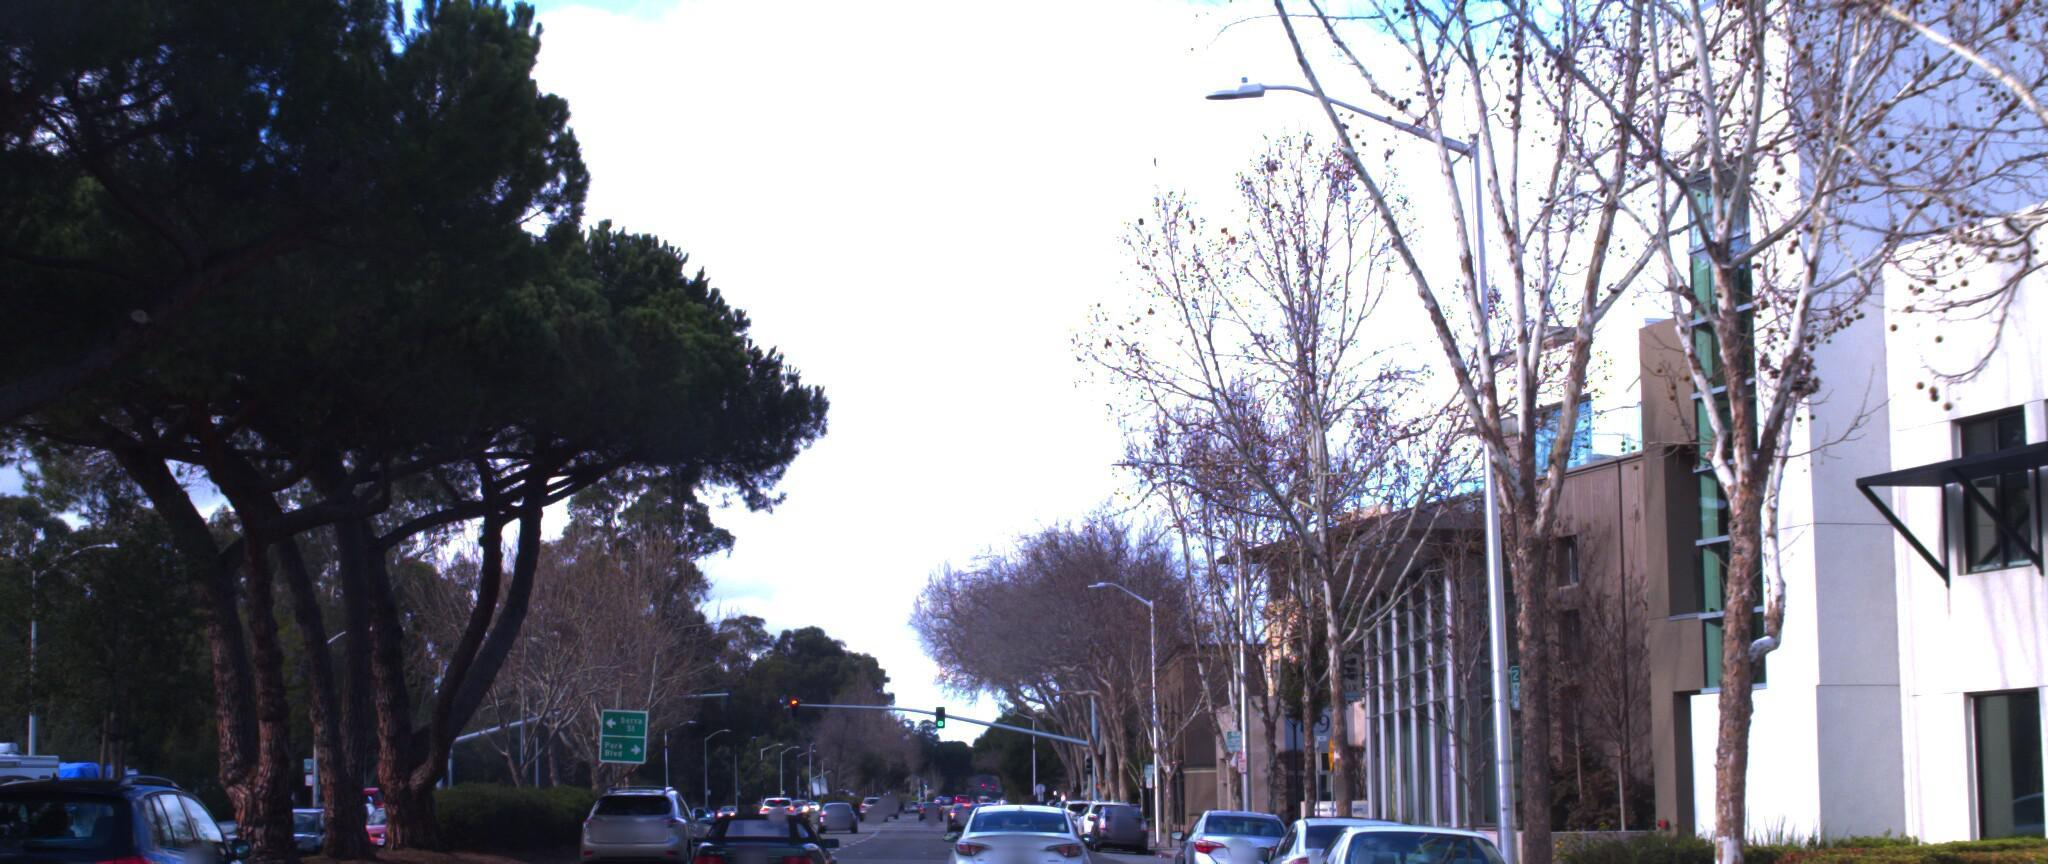car: (0, 760, 308, 864), (1289, 801, 1554, 864), (1251, 795, 1469, 864), (690, 780, 852, 864), (584, 758, 714, 861), (946, 782, 1088, 864), (1183, 790, 1319, 864)
other_vehicle: (0, 736, 165, 861), (0, 706, 86, 864)
